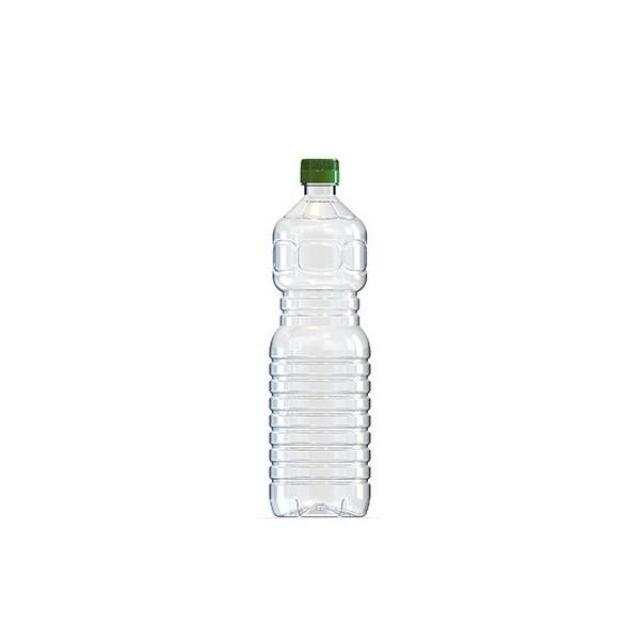bottle: (252, 138, 386, 526)
